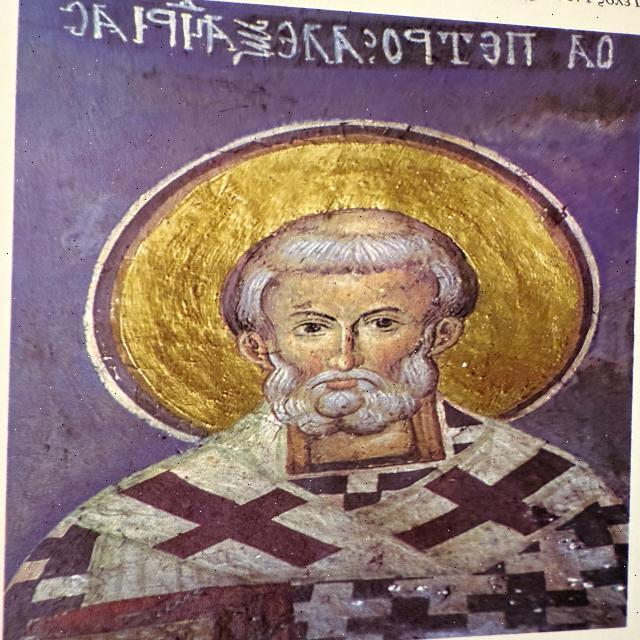aura: (85, 121, 607, 444)
church_father: (19, 117, 627, 640)
